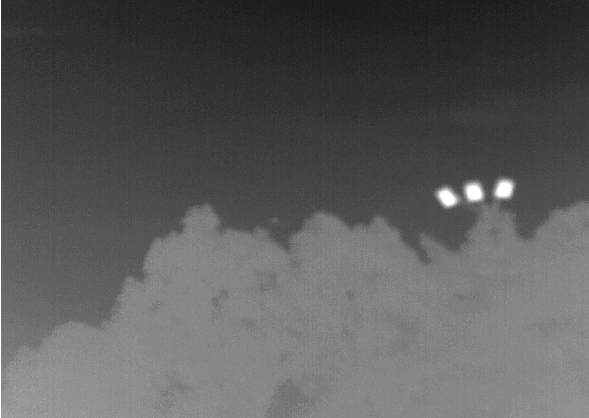dim target: (271, 217, 279, 225)
